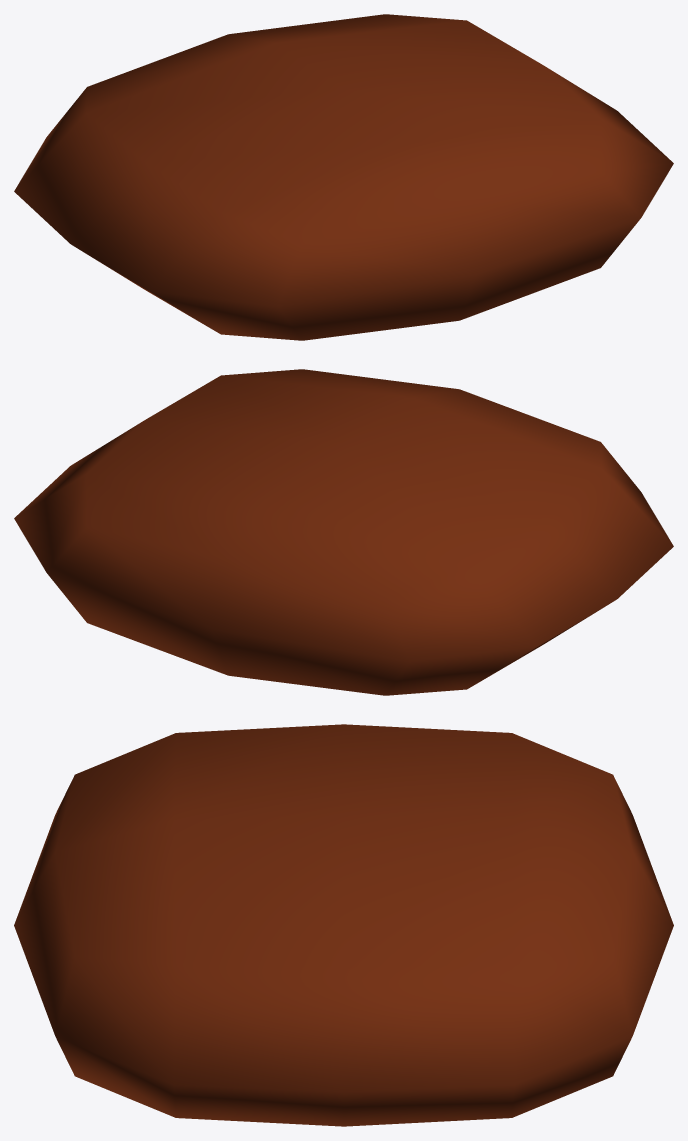
Rendered from farm_plot.glb.
3 renders of one model, top to bottom at view 1: azimuth 30°, elevation 25°; view 2: azimuth 150°, elevation 25°; view 3: azimuth 270°, elevation 25°, orthographic. The views are drawn at different scales.
Parts seen in each view (by area): view 1: farm_plot; view 2: farm_plot; view 3: farm_plot.
Part boxes in pixels (x1,y1,x2,y2): farm_plot: [14, 14, 673, 340]; farm_plot: [14, 369, 673, 695]; farm_plot: [14, 724, 673, 1126].
Size of what is drawn, in the model's own units: 1.56 by 0.4812 by 1.31.
